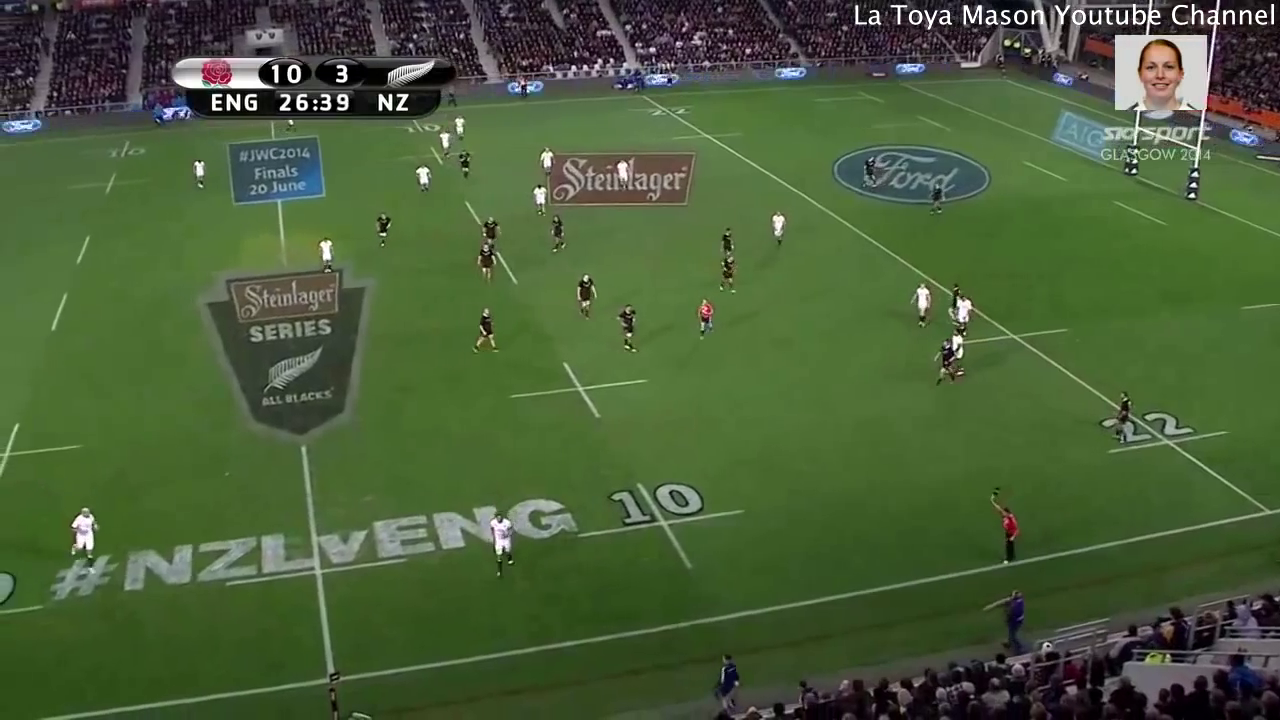10_metre: (573, 473, 749, 580), (508, 357, 652, 422), (1, 419, 86, 481), (382, 110, 464, 132), (399, 145, 479, 167)
player: (985, 480, 1025, 569), (483, 505, 523, 582), (65, 499, 103, 576), (1106, 380, 1146, 452), (468, 303, 507, 363), (946, 322, 977, 388), (611, 296, 643, 355), (908, 276, 939, 333), (575, 272, 602, 324), (932, 336, 959, 388), (761, 208, 792, 250), (694, 293, 718, 343), (312, 234, 337, 281), (951, 290, 974, 341), (478, 214, 505, 257), (716, 249, 739, 298), (371, 211, 397, 252), (926, 178, 952, 218), (474, 236, 494, 288), (410, 161, 437, 199), (714, 223, 742, 258), (545, 210, 567, 253), (944, 278, 964, 323), (861, 153, 882, 194), (188, 152, 209, 191), (612, 156, 633, 193), (436, 124, 455, 164), (455, 146, 475, 183), (538, 145, 557, 183), (450, 112, 469, 147)
post: (1108, 106, 1210, 210)
